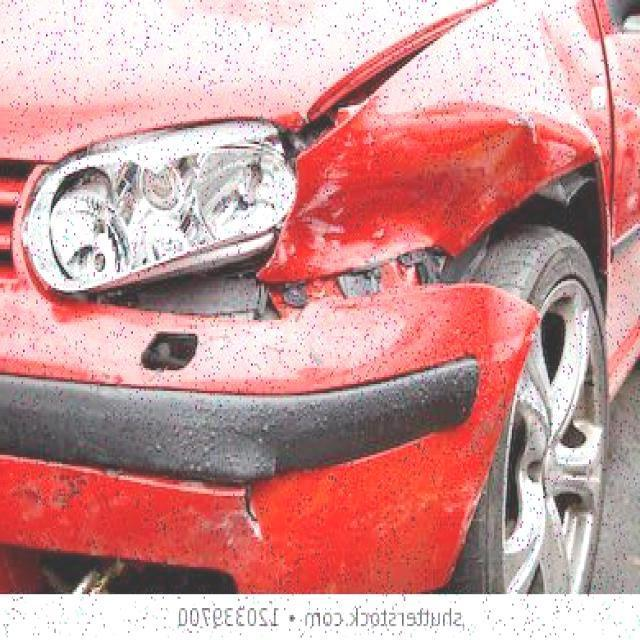minor: (245, 479, 294, 537)
moderate: (25, 109, 590, 317), (20, 118, 295, 297)
